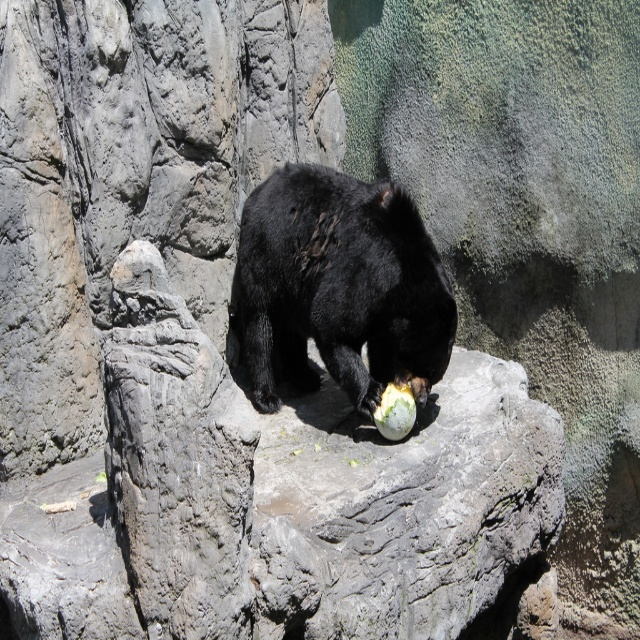Bear: (236, 160, 458, 421)
